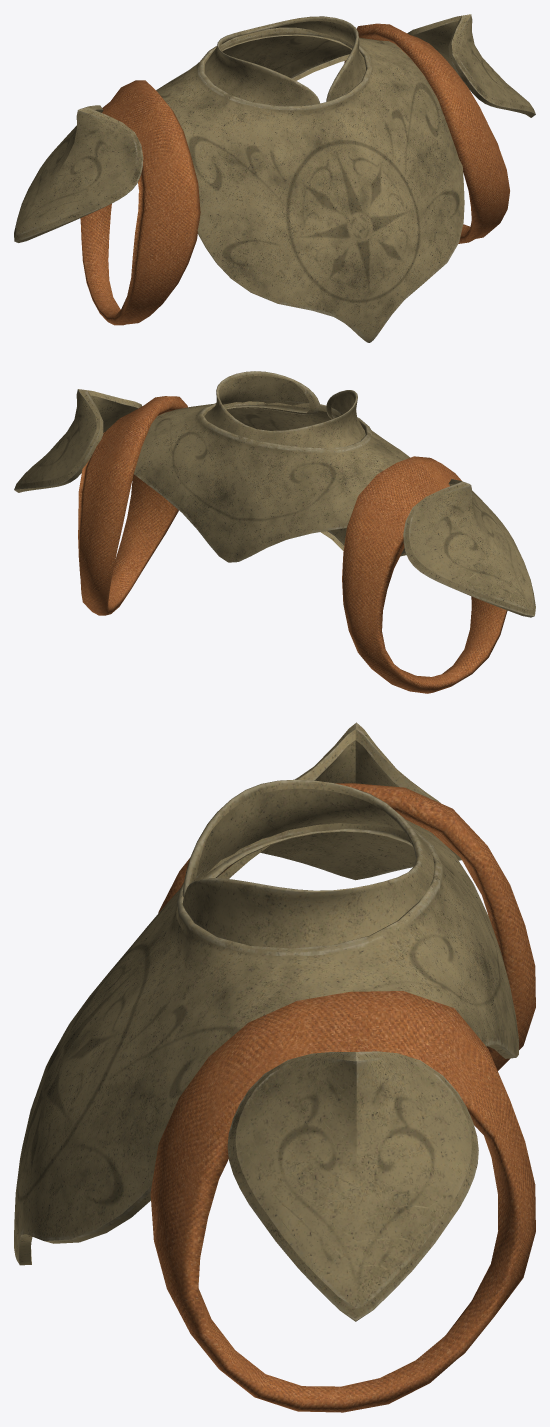
The model's file is am_golden_flower_knight_pauldrons_a01.fbx.
3 views of the same model, one above another, from view 1: azimuth 30°, elevation 25°; view 2: azimuth 150°, elevation 25°; view 3: azimuth 270°, elevation 25° (orthographic). The views are drawn at different scales.
Parts seen in each view (by area): view 1: am_golden_flower_knight_pauldrons_a01; view 2: am_golden_flower_knight_pauldrons_a01; view 3: am_golden_flower_knight_pauldrons_a01.
Part boxes in pixels (bbox=[...]): am_golden_flower_knight_pauldrons_a01: bbox=[14, 14, 535, 342]; am_golden_flower_knight_pauldrons_a01: bbox=[14, 371, 535, 693]; am_golden_flower_knight_pauldrons_a01: bbox=[14, 722, 535, 1412].
Bounding box in the file's own units: 0.6308 × 0.3101 × 0.286.
1 material, 1 textured.
